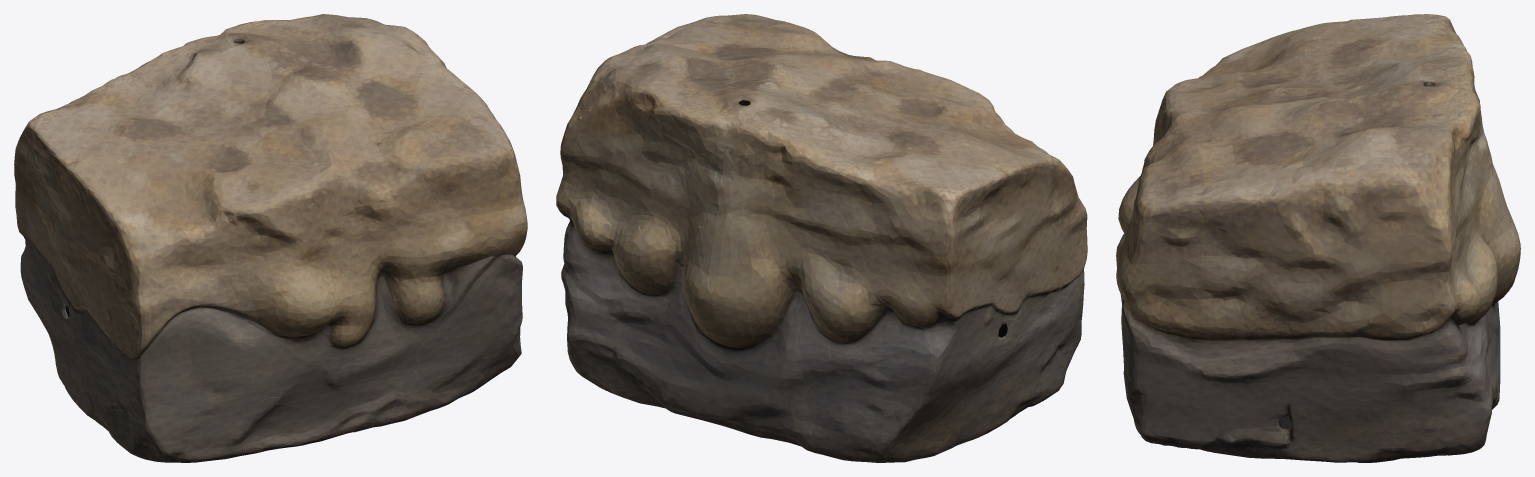
3 renders of one model, left to right at view 1: azimuth 30°, elevation 25°; view 2: azimuth 150°, elevation 25°; view 3: azimuth 270°, elevation 25°, orthographic. The views are drawn at different scales.
Visible parts, largest first — view 1: world; view 2: world; view 3: world.
Part boxes in pixels (<box>): world: <box>14,14,527,462</box>; world: <box>556,14,1087,462</box>; world: <box>1116,14,1520,462</box>.
Bounding box in the file's own units: 0.6761 × 0.5093 × 0.5693.
Materials: 1 (1 with a texture image).
